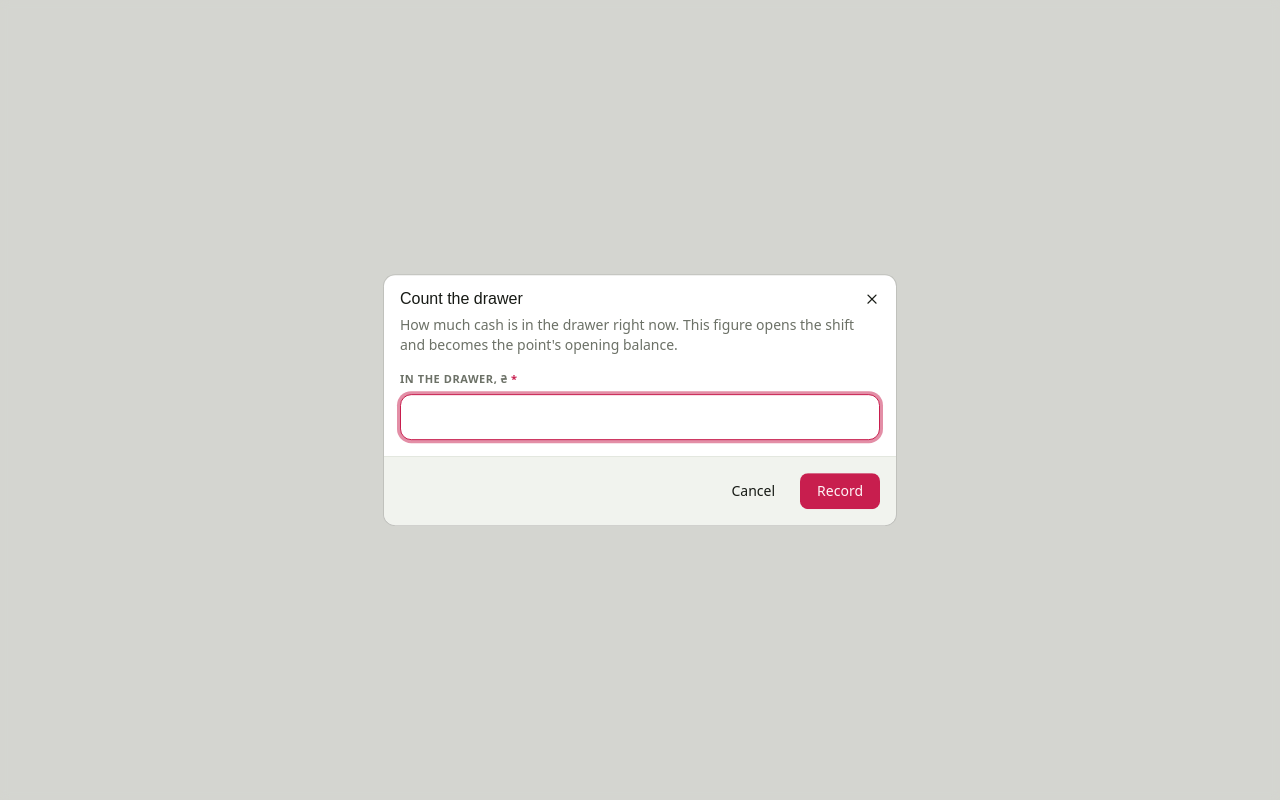
Scenario: CountDrawerDialog › clears a stale server banner as soon as the next submit is attempted
Step 1. Type "1500.00" into the field → (640, 417), box [400,394,880,440]
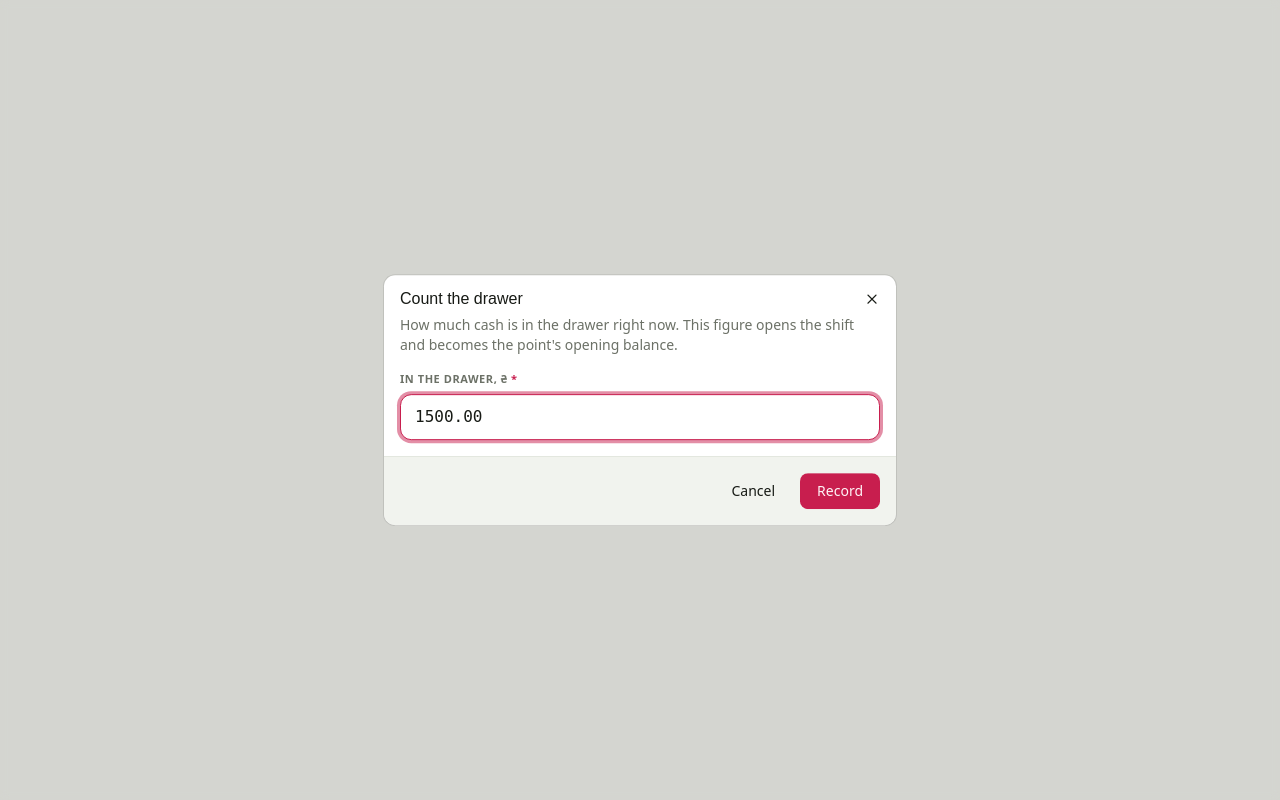
Step 2. Click the button "Record" → (840, 491), box [800,473,880,509]
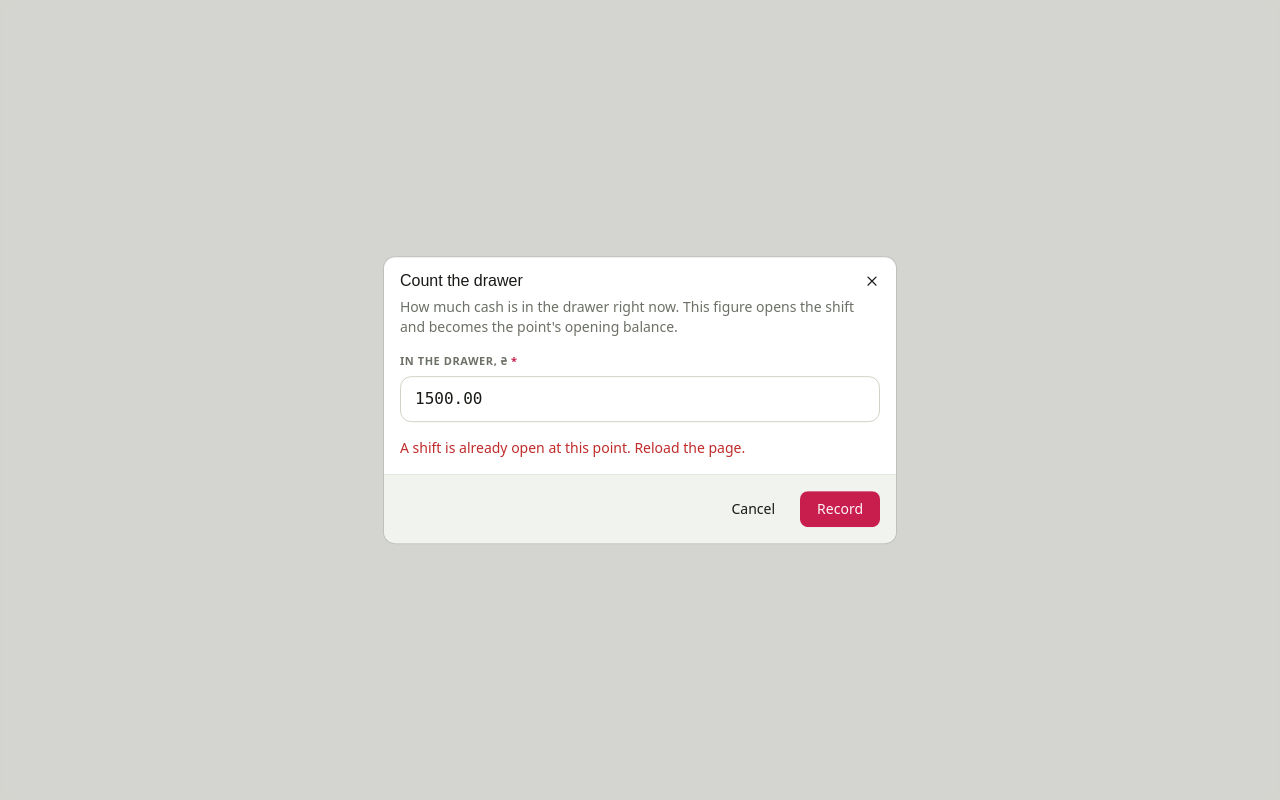
Now the message shows "A shift is already open at this point", box [400,438,745,457]
Step 3. Clear the field → (640, 399), box [400,376,880,422]
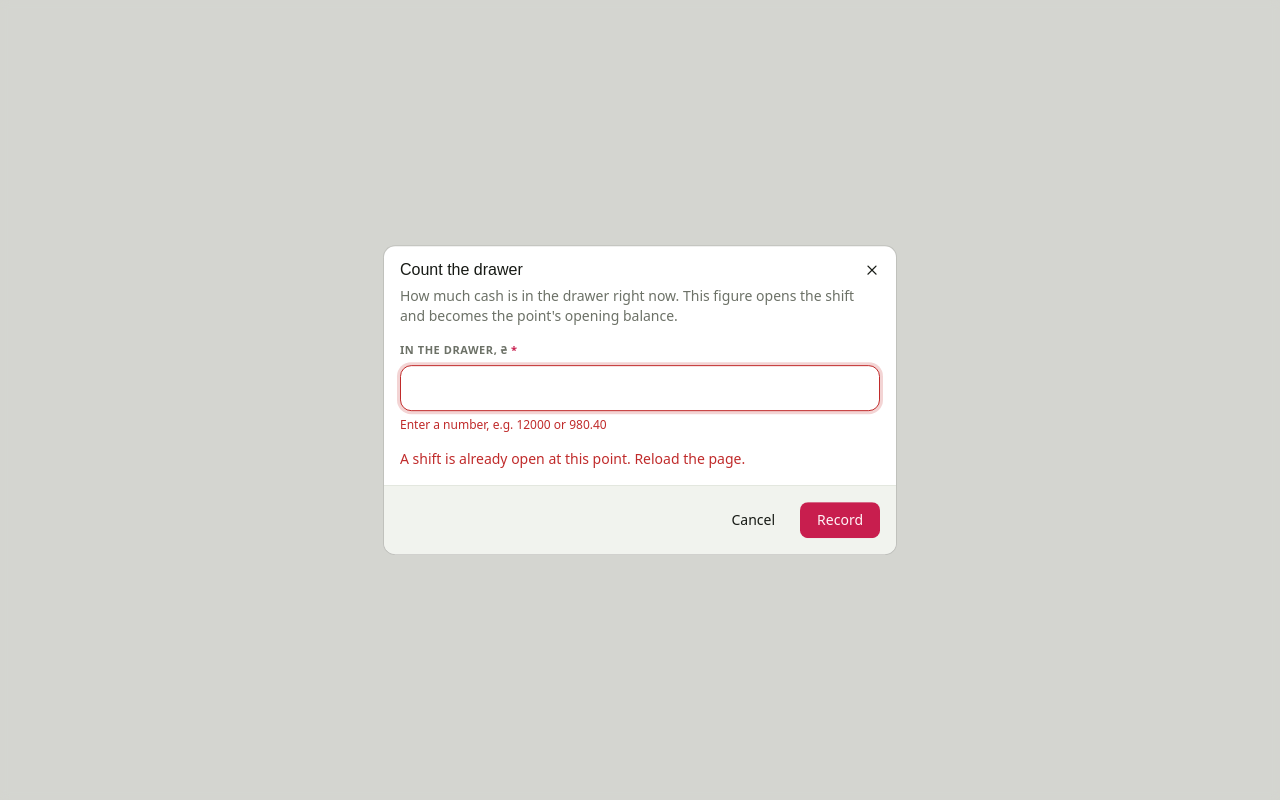
Step 4. Type "12." into the field → (640, 388), box [400,365,880,411]
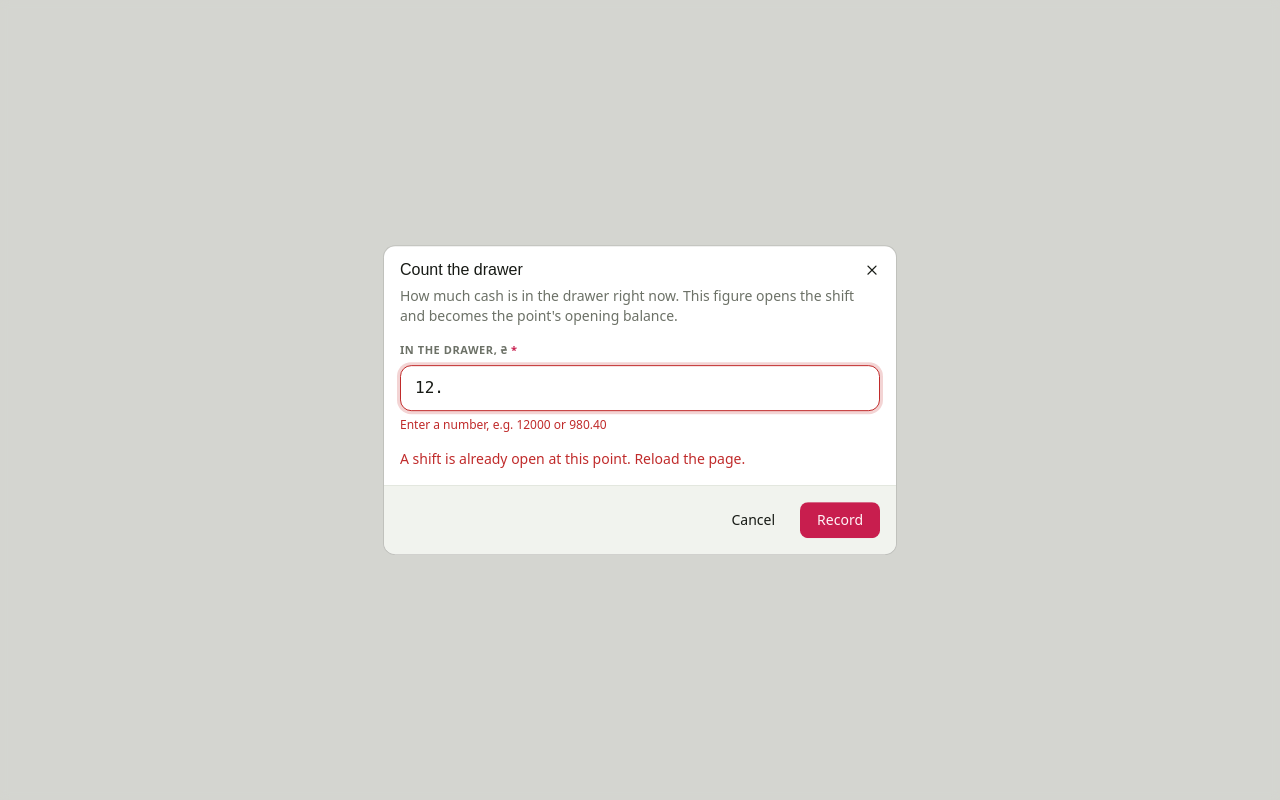
Step 5. Click the button "Record" → (840, 520), box [800,502,880,538]
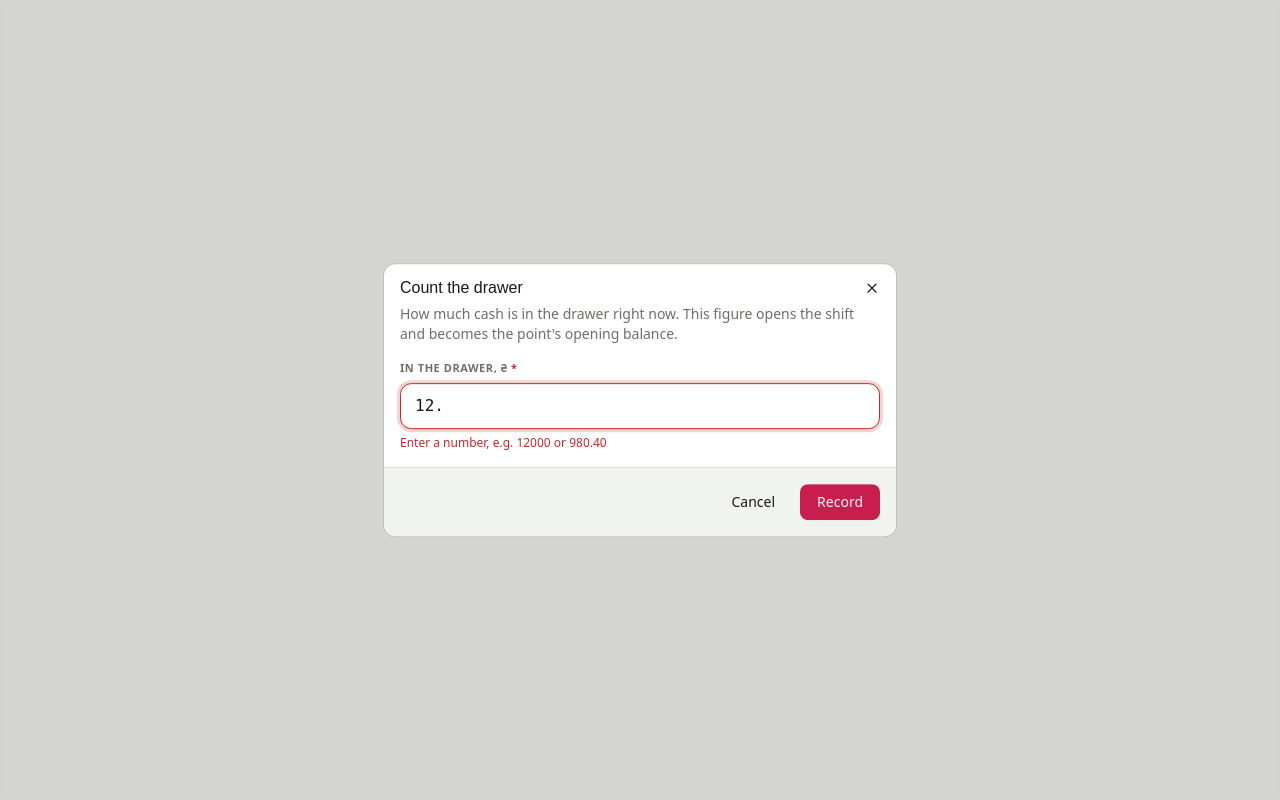
Now the message reads "Enter a number, e.g. 12000 or 980.40", box [400,434,607,451]
Now the text "A shift is already open at this point" is gone
